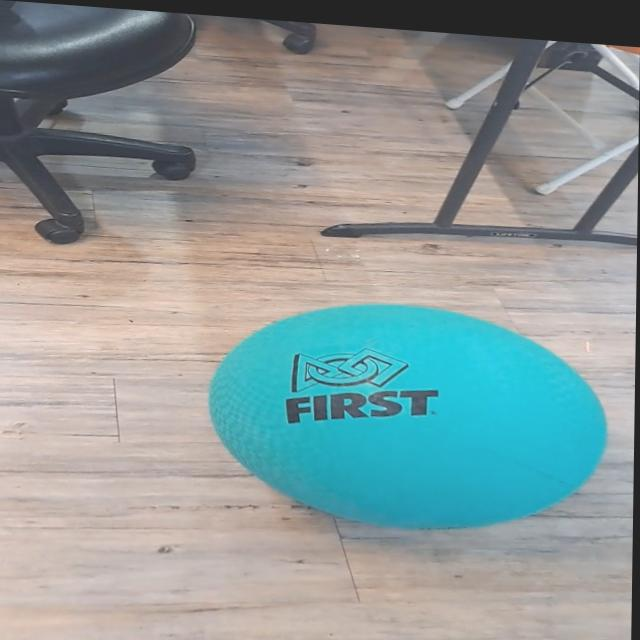ALGAE: (203, 288, 610, 546)
